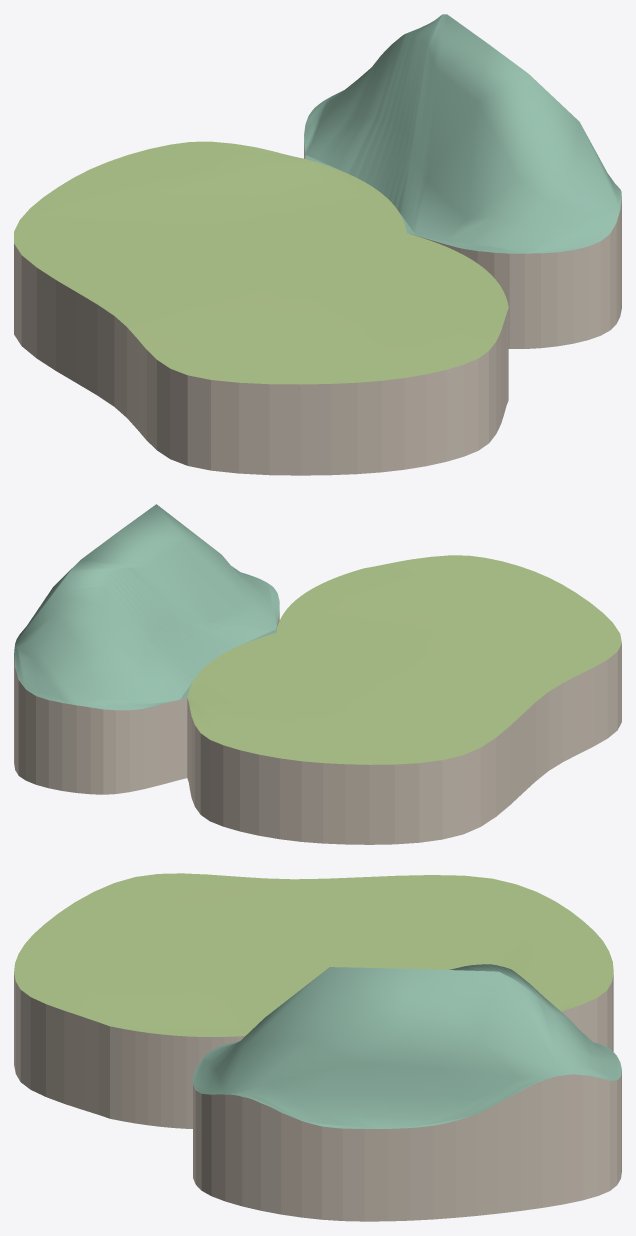
The model's file is parallel-source.glb.
The picture shows the model from 3 angles, top to bottom: view 1: azimuth 30°, elevation 25°; view 2: azimuth 150°, elevation 25°; view 3: azimuth 270°, elevation 25°; orthographic projection. The views are drawn at different scales.
Parts seen in each view (by area): view 1: baseline/top, parallel/top, baseline/rounded-coast, parallel/rounded-coast; view 2: baseline/top, baseline/rounded-coast, parallel/top, parallel/rounded-coast; view 3: baseline/top, parallel/top, parallel/rounded-coast, baseline/rounded-coast, baseline/bank-north-seam.
Boxes of the visible parts, x1=… form: baseline/top: x1=14, y1=141, x2=508, y2=384; parallel/top: x1=304, y1=14, x2=621, y2=253; baseline/rounded-coast: x1=14, y1=244, x2=508, y2=475; parallel/rounded-coast: x1=304, y1=142, x2=621, y2=348; baseline/top: x1=187, y1=555, x2=621, y2=764; baseline/rounded-coast: x1=187, y1=643, x2=621, y2=844; parallel/top: x1=14, y1=504, x2=279, y2=710; parallel/rounded-coast: x1=14, y1=611, x2=279, y2=794; baseline/top: x1=14, y1=873, x2=613, y2=1036; parallel/top: x1=193, y1=964, x2=621, y2=1128; parallel/rounded-coast: x1=193, y1=1071, x2=621, y2=1221; baseline/rounded-coast: x1=14, y1=974, x2=613, y2=1118; baseline/bank-north-seam: x1=110, y1=1026, x2=244, y2=1128.
Size of the model in its own units: 5.97 by 2.33 by 5.96.
